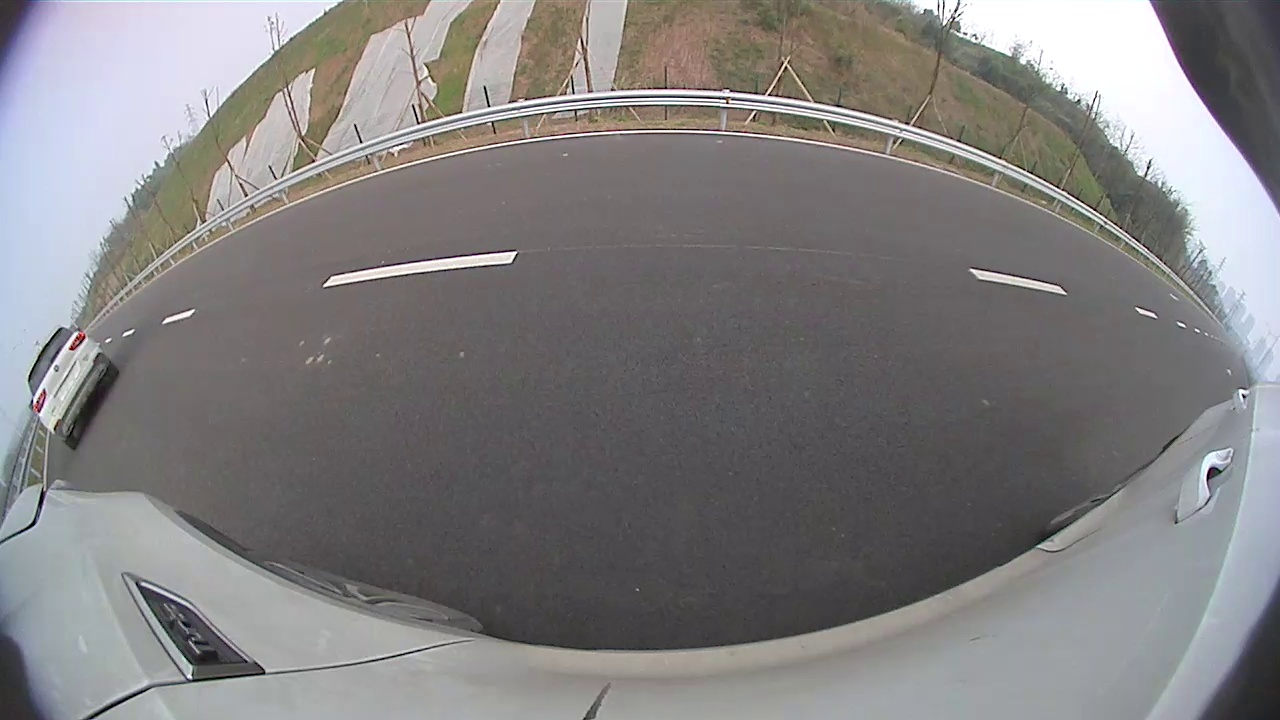car: (27, 327, 119, 451)
